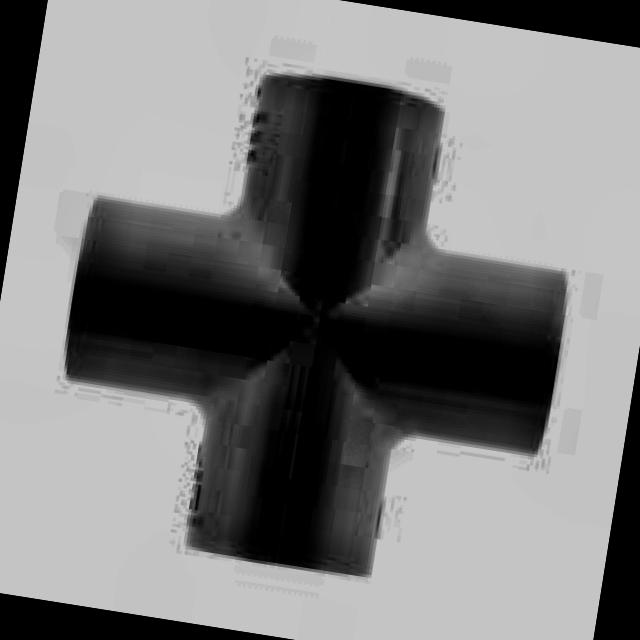EQUALCROSS: (65, 71, 565, 577)
